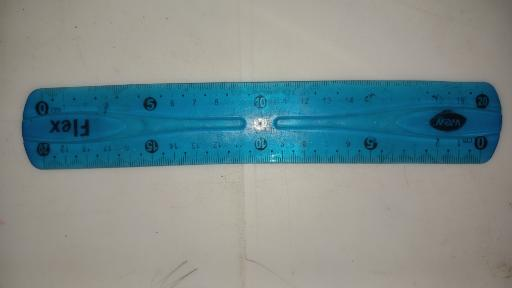Ruler: (20, 81, 503, 173)
